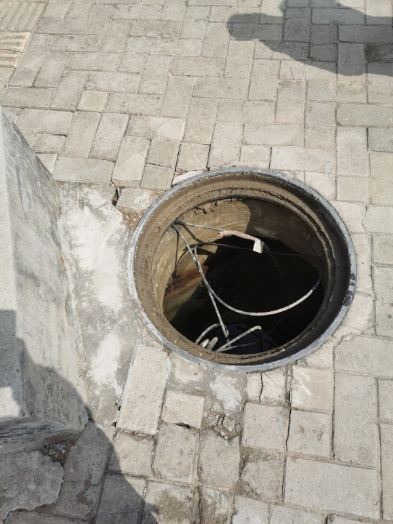lose: (126, 166, 357, 372)
